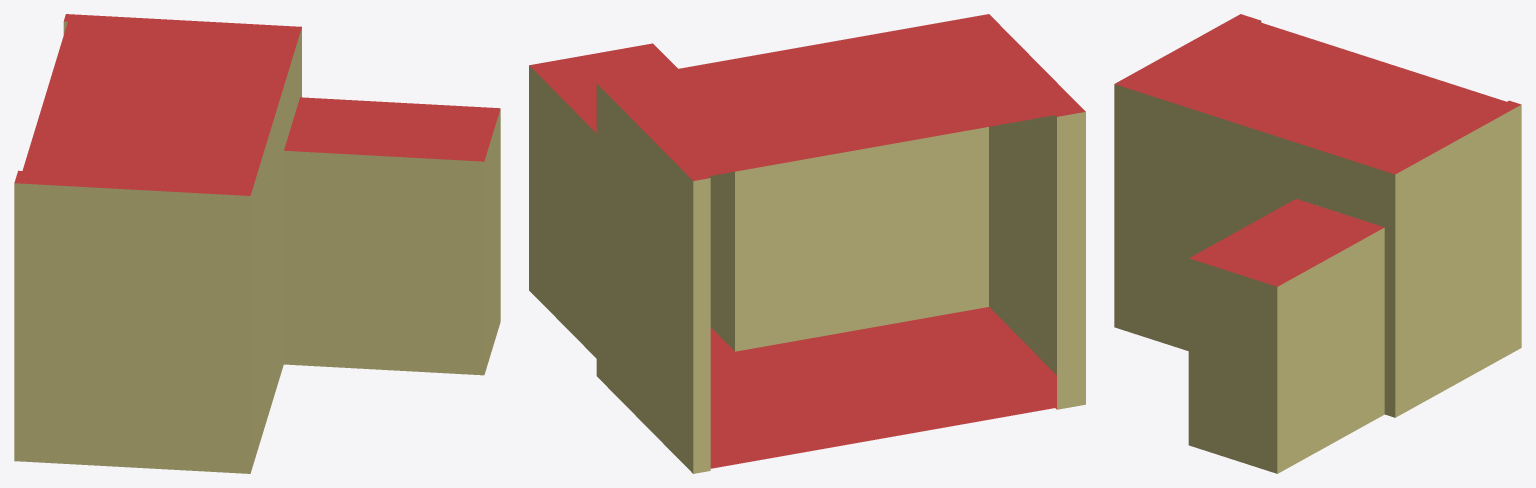
3 views of the same model, side by side, from view 1: azimuth 30°, elevation 25°; view 2: azimuth 150°, elevation 25°; view 3: azimuth 270°, elevation 25° (orthographic). The views are drawn at different scales.
Visible parts, largest first — view 1: group_7, group_4, group_6, group_3; view 2: group_7, group_6, group_8, group_4, group_3, group_5; view 3: group_7, group_4, group_6, group_3.
Boxes of the visible parts, x1,y1,x2,y2 form: group_7: (14,21,301,473); group_4: (284,109,500,375); group_6: (14,14,301,195); group_3: (284,97,500,161); group_7: (596,83,1085,473); group_6: (597,14,1085,180); group_8: (710,307,1056,468); group_4: (529,65,734,358); group_3: (529,43,677,132); group_5: (710,327,752,377); group_7: (1114,21,1521,417); group_4: (1188,227,1384,473); group_6: (1115,14,1521,174); group_3: (1189,199,1384,286).
Size of the model in its own units: 13.52 by 10.74 by 7.08.
